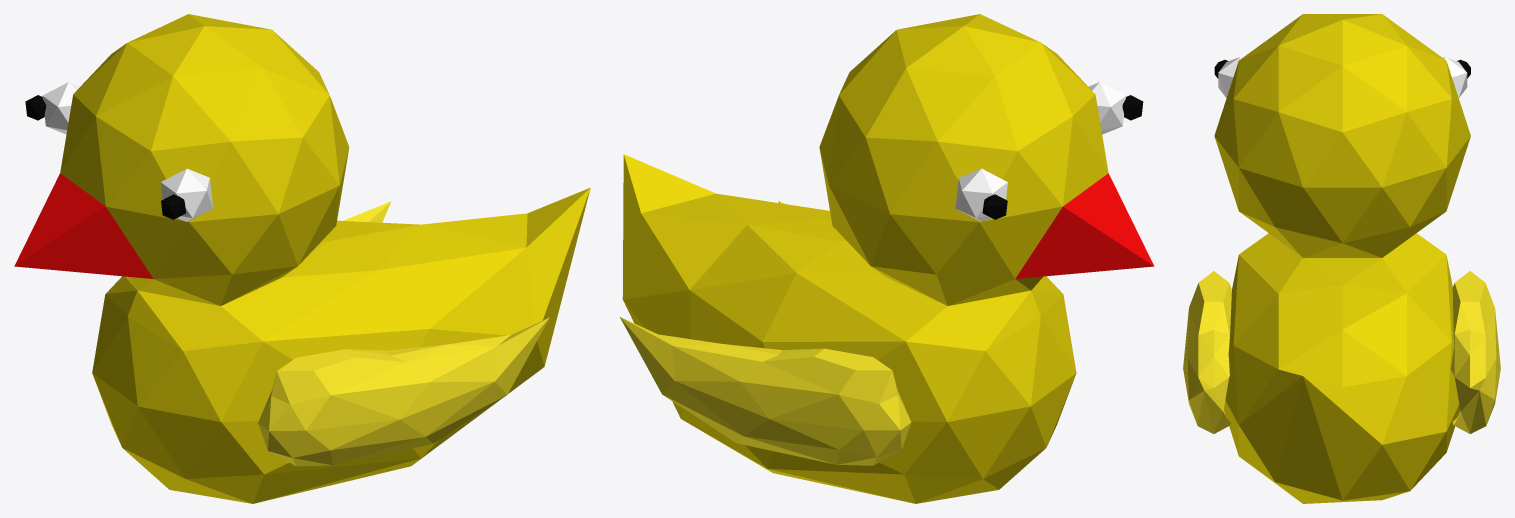
The model's file is Duck.fbx.
The picture shows the model from 3 angles, left to right: view 1: azimuth 30°, elevation 25°; view 2: azimuth 150°, elevation 25°; view 3: azimuth 270°, elevation 25°; orthographic projection. The views are drawn at different scales.
Parts seen in each view (by area): view 1: B_Ducky; view 2: B_Ducky; view 3: B_Ducky.
Part boxes in pixels (x1,y1,x2,y2): B_Ducky: [14, 14, 590, 503]; B_Ducky: [620, 14, 1154, 503]; B_Ducky: [1183, 14, 1500, 503].
Bounding box in the file's own units: 0.8649 × 0.7076 × 0.4953.
